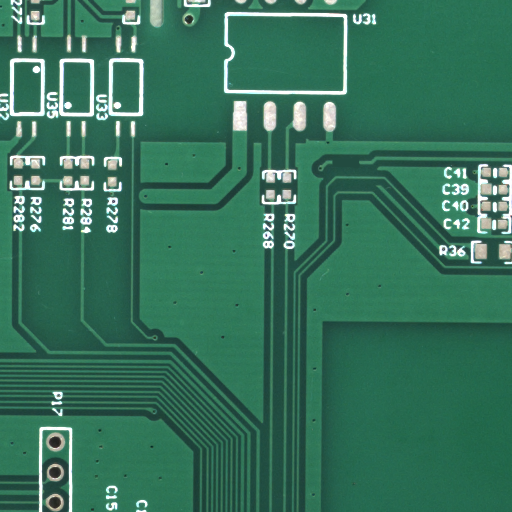Open_circuit: (347, 162, 381, 175)
